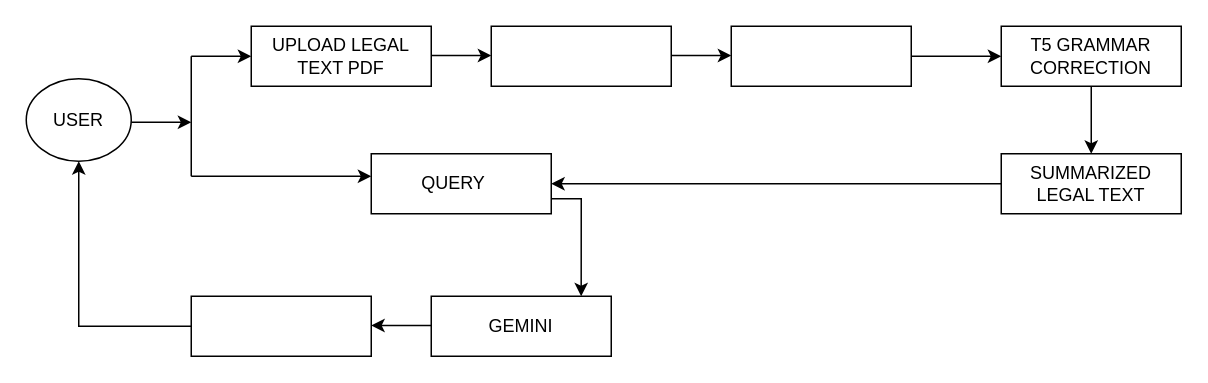
The diagram is 1208 pixels wide and 383 high, and some of its shapes have lost their labels. The shapes that lost their labels are listed below. From the top down, each one's box as (x1, y1, x2, y2) in pixels, then its label:
(490, 25, 671, 86): EXTRACT TEXT FROM PDF
(730, 25, 911, 86): INCASELAW BERT
(190, 295, 371, 356): ANSWER
